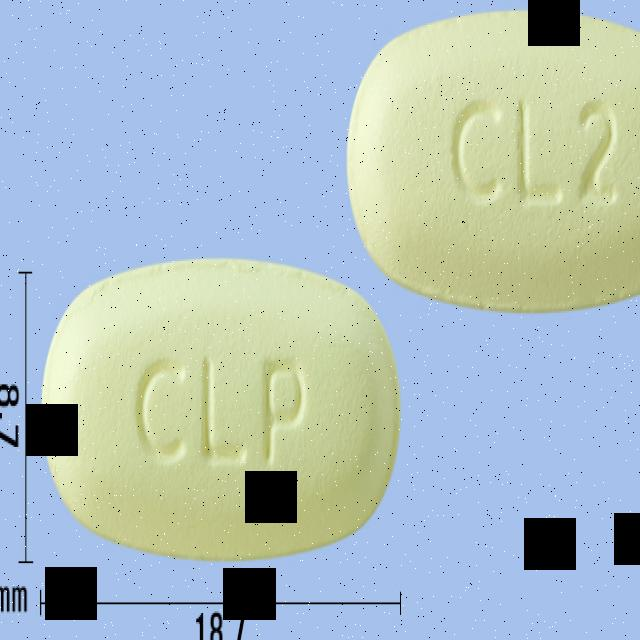Celltrion Clarithromycin: (39, 253, 402, 566), (343, 5, 640, 318)
